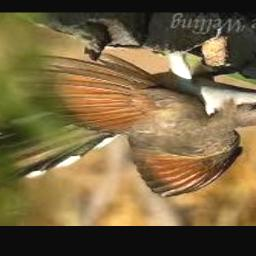Cuckoo: (0, 51, 256, 198)
